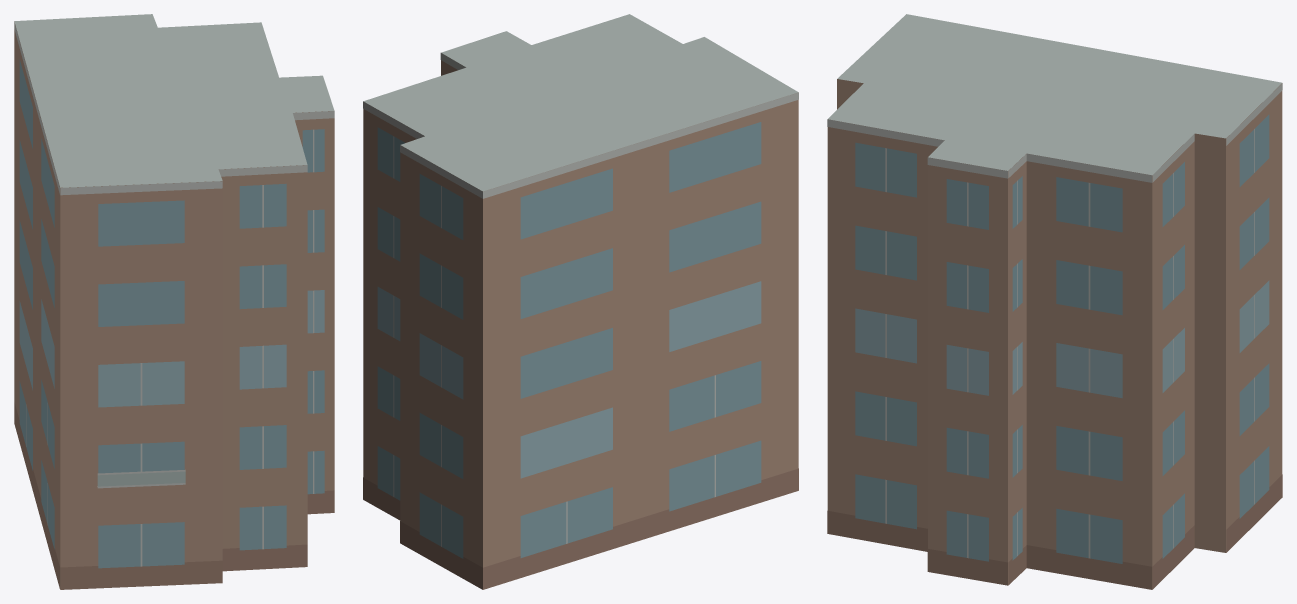
Rendered from survey-upis-32928397.glb.
3 renders of one model, left to right at view 1: azimuth 30°, elevation 25°; view 2: azimuth 150°, elevation 25°; view 3: azimuth 270°, elevation 25°, orthographic. The views are drawn at different scales.
Parts seen in each view (by area): view 1: survey-upis-32928397.tmp; view 2: survey-upis-32928397.tmp; view 3: survey-upis-32928397.tmp.
Part boxes in pixels (x1,y1,x2,y2): survey-upis-32928397.tmp: (14,14,334,589); survey-upis-32928397.tmp: (363,14,798,589); survey-upis-32928397.tmp: (827,14,1282,589).
Size of the model in its own units: 11.02 by 13.2 by 13.14.
